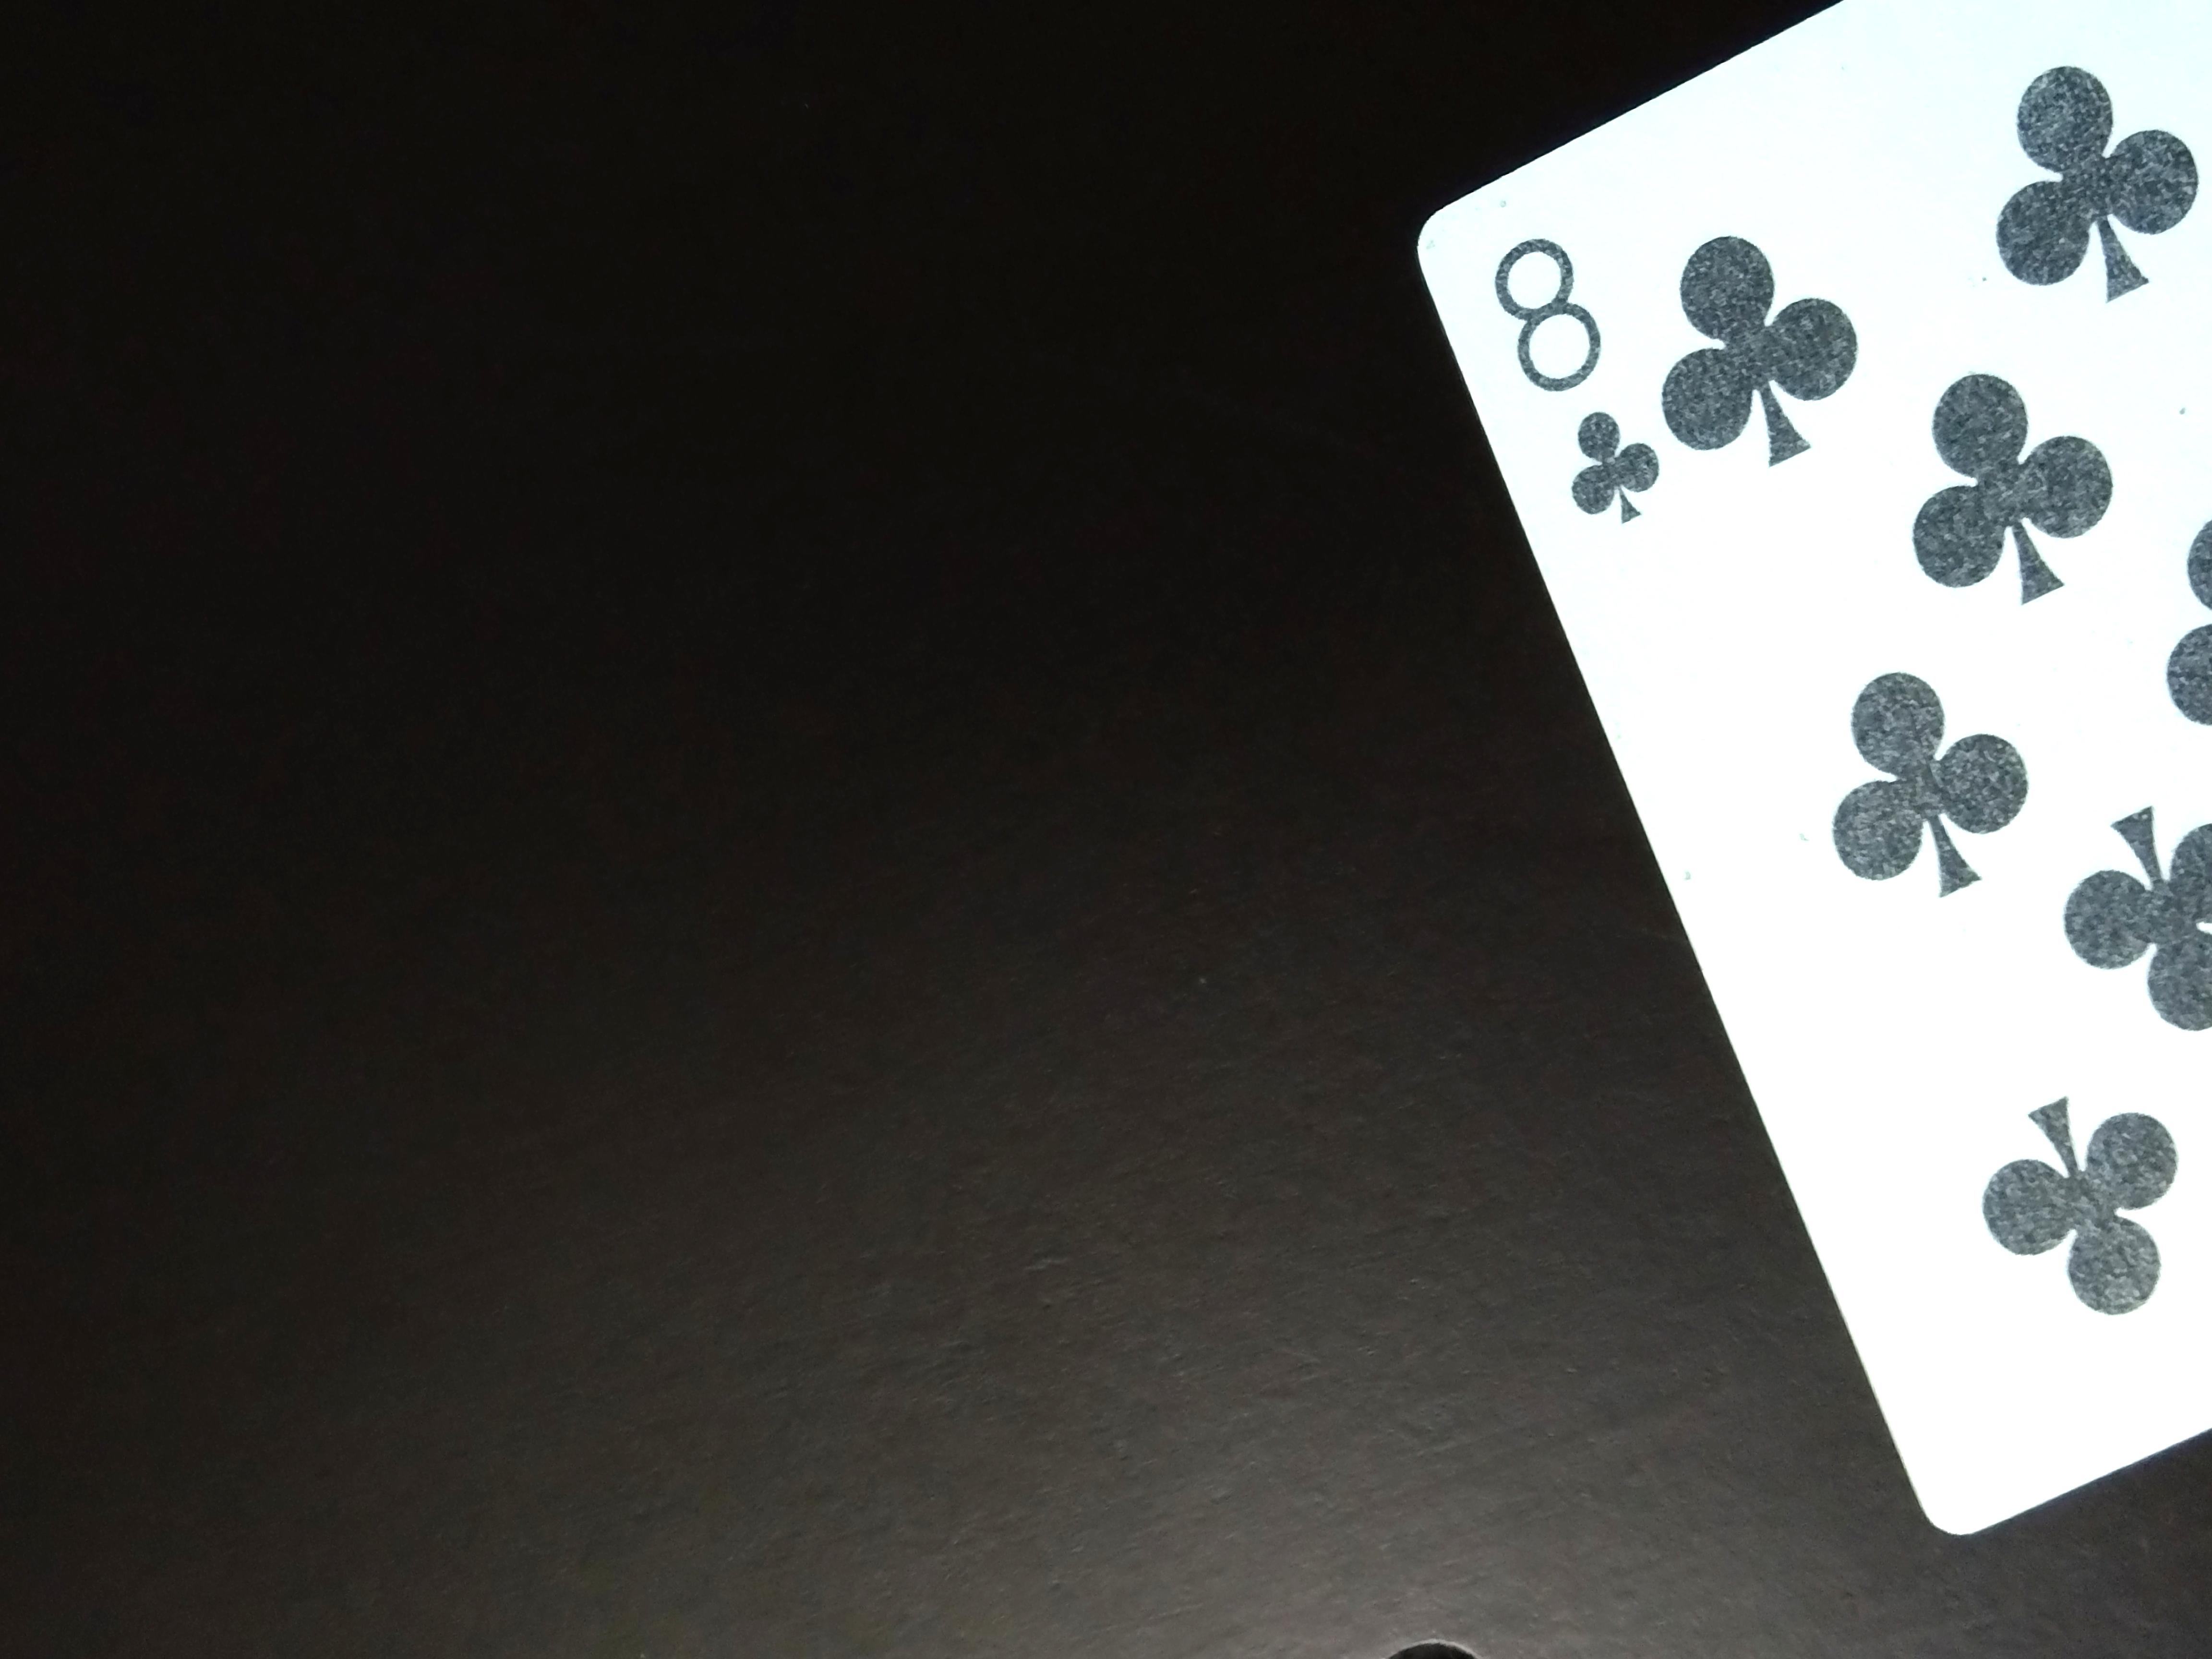8C: (1486, 228, 1707, 579)
